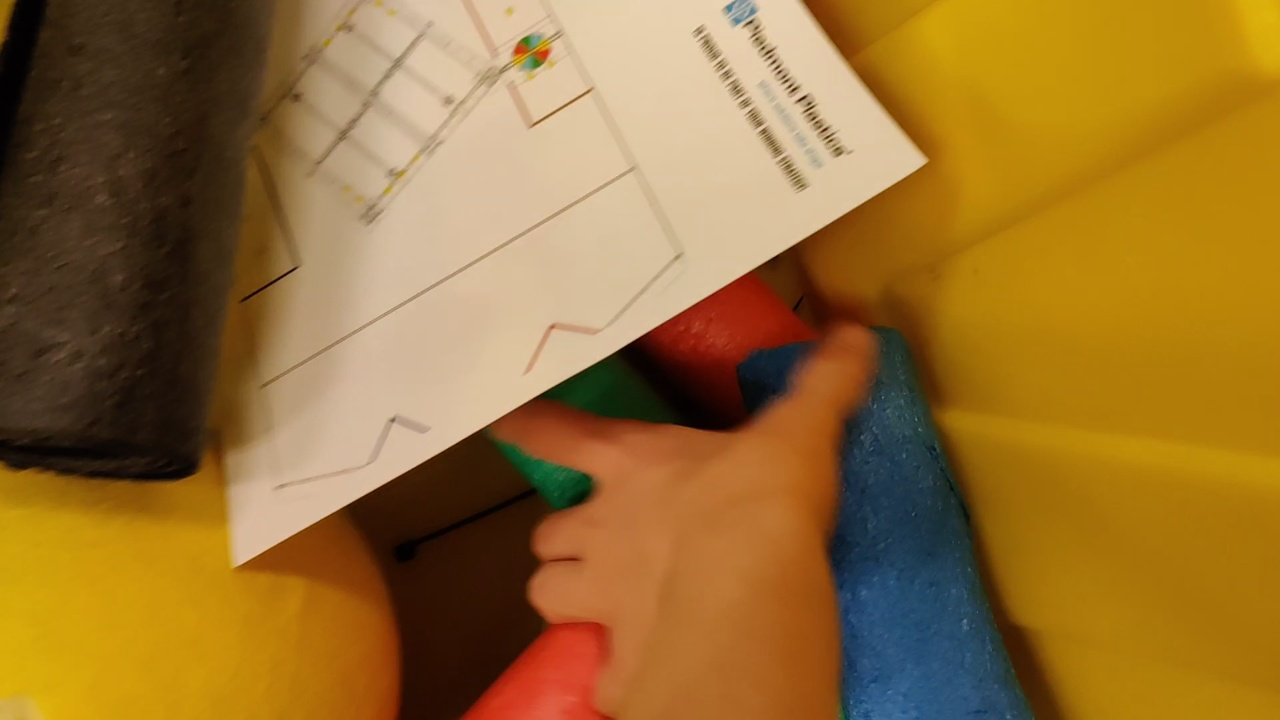Ball: (1, 443, 402, 717)
